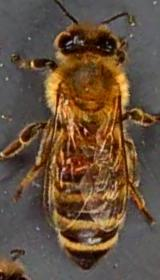varroa_mite: (61, 148, 94, 174)
